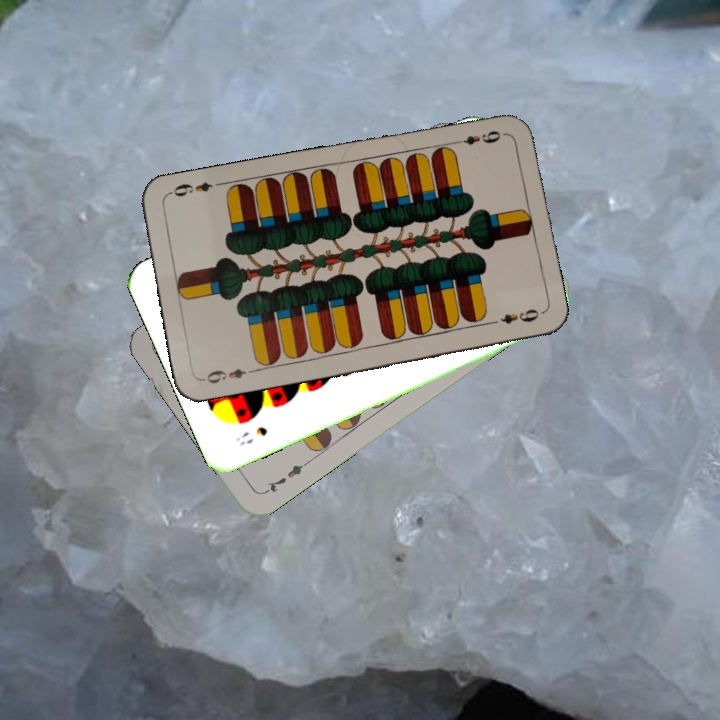E7: (260, 457, 311, 497)
E9: (199, 364, 258, 387), (450, 126, 504, 148)
S8: (232, 422, 270, 448)
